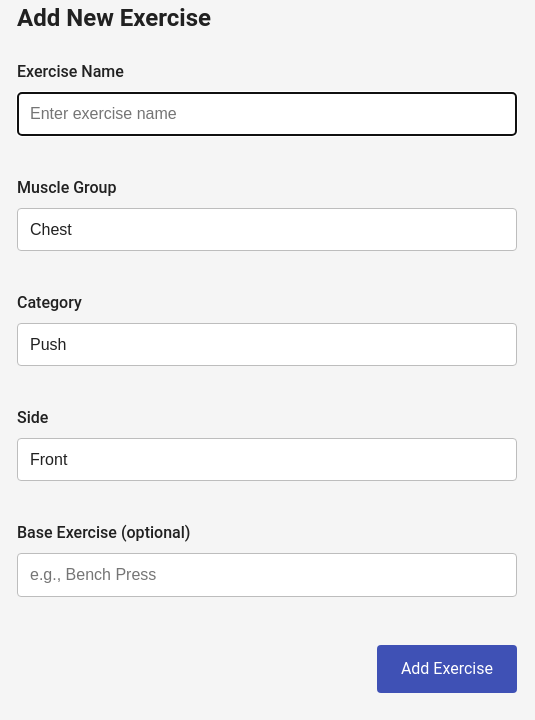
it: AddExerciseForm › shows error when submitting with empty exercise name
This screenshot has width=535, height=720.
Click the button "Add Exercise".
click(447, 669)  # box x1=377 y1=645 x2=517 y2=693
(page scrolled)
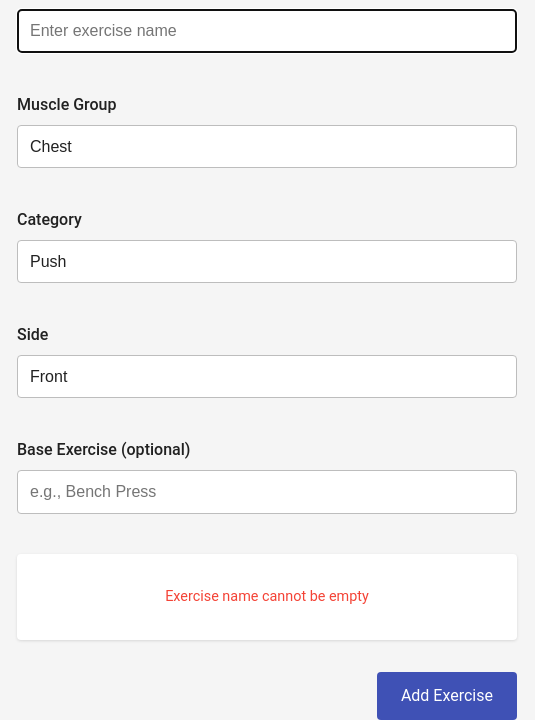
Now the text "Exercise name cannot be empty" is shown, box x1=17 y1=554 x2=517 y2=640
